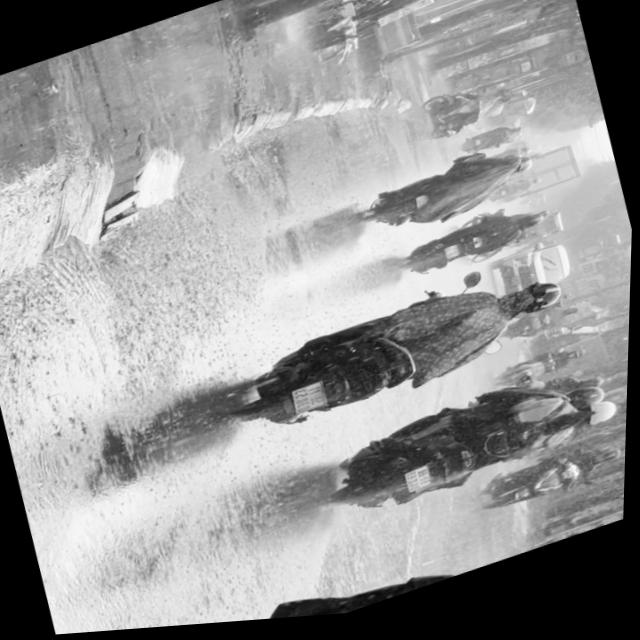helmet: (503, 282, 569, 330), (578, 404, 625, 440), (569, 389, 612, 422), (512, 159, 537, 183)
licenseplate: (70, 477, 628, 635), (204, 252, 585, 461), (310, 359, 631, 539), (353, 139, 548, 253)
nohelmet: (295, 385, 331, 418), (408, 471, 437, 500)
